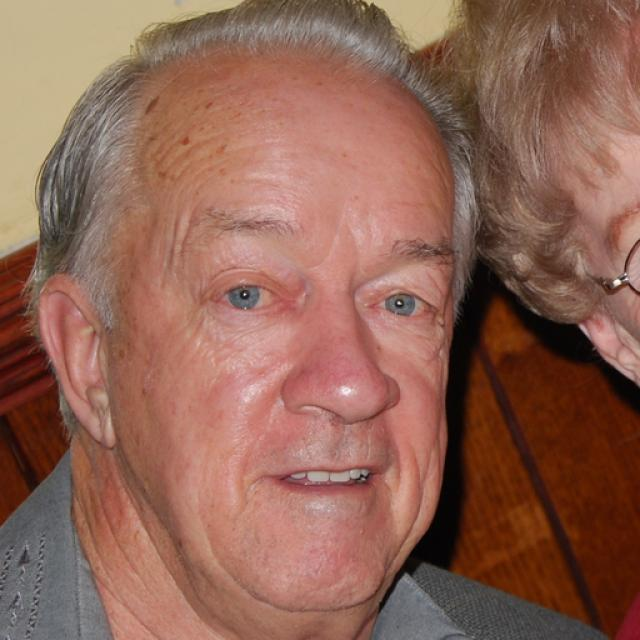surprise: (118, 32, 458, 616)
